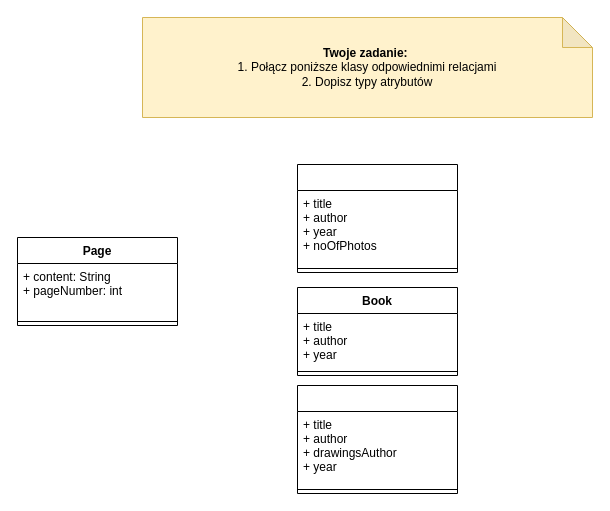
This 610x511 diagram has some shape labels left out. Here are the shapes that lost their labels. From the top down, the box of each, then its label:
(296, 164, 458, 272): PhotoAlbum
(296, 384, 458, 494): ComicBook
